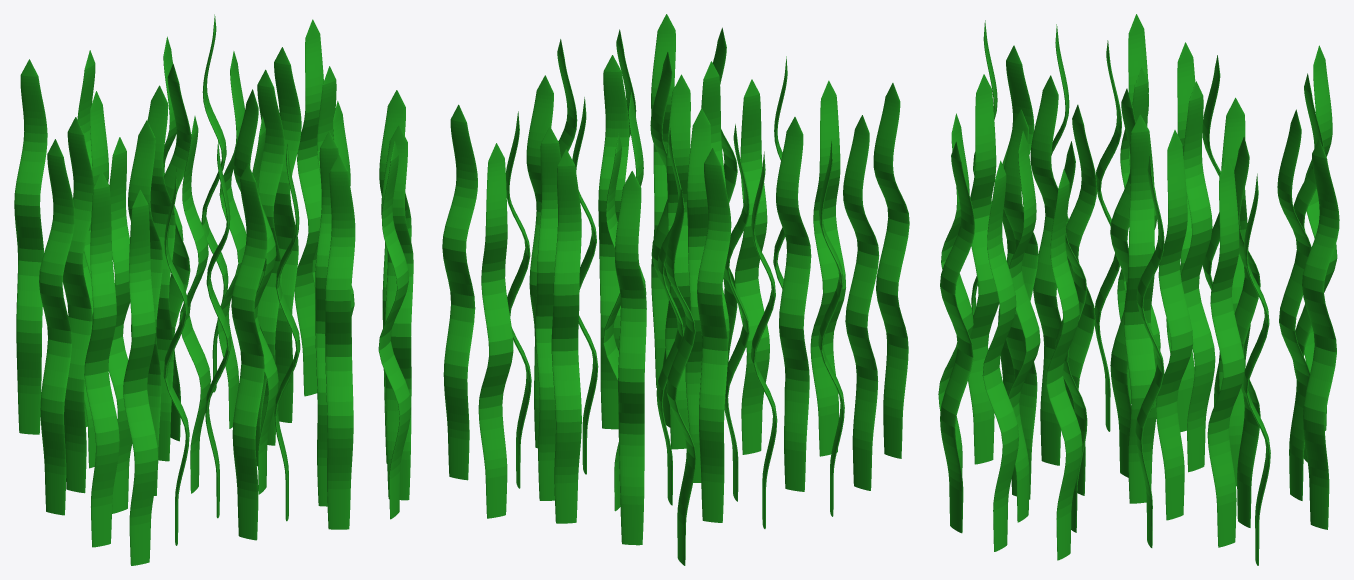
File: zeewier.fbx
The picture shows the model from 3 angles, left to right: view 1: azimuth 30°, elevation 25°; view 2: azimuth 150°, elevation 25°; view 3: azimuth 270°, elevation 25°; orthographic projection. The views are drawn at different scales.
Visible parts, largest first — view 1: Cylinder.001, Cylinder.023, Cylinder.019, Cylinder.016, Cylinder.020, Cylinder.003, Cylinder.017, Cylinder.030, Cylinder.026, Cylinder.008, Cylinder.015, Cylinder.010 (+19 smaller); view 2: Cylinder.028, Cylinder.022, Cylinder.009, Cylinder.015, Cylinder.021, Cylinder.030, Cylinder.019, Cylinder.020, Cylinder.004, Cylinder.018, Cylinder.029, Cylinder.006 (+19 smaller); view 3: Cylinder.012, Cylinder.021, Cylinder.026, Cylinder.025, Cylinder.010, Cylinder.003, Cylinder.007, Cylinder.008, Cylinder.004, Cylinder, Cylinder.028, Cylinder.005 (+19 smaller).
Boxes of the visible parts, bbox=[...] form: Cylinder.001: bbox=[325, 155, 355, 529]; Cylinder.023: bbox=[14, 59, 47, 434]; Cylinder.019: bbox=[123, 189, 158, 565]; Cylinder.016: bbox=[39, 139, 74, 515]; Cylinder.020: bbox=[84, 171, 119, 547]; Cylinder.003: bbox=[231, 164, 267, 540]; Cylinder.017: bbox=[63, 117, 94, 493]; Cylinder.030: bbox=[294, 19, 323, 396]; Cylinder.026: bbox=[273, 47, 301, 422]; Cylinder.008: bbox=[381, 125, 413, 500]; Cylinder.015: bbox=[108, 137, 132, 513]; Cylinder.010: bbox=[147, 85, 175, 461]; Cylinder.028: bbox=[551, 149, 581, 523]; Cylinder.022: bbox=[615, 171, 646, 545]; Cylinder.009: bbox=[697, 148, 731, 522]; Cylinder.015: bbox=[776, 117, 811, 491]; Cylinder.021: bbox=[478, 143, 513, 518]; Cylinder.030: bbox=[442, 104, 477, 480]; Cylinder.019: bbox=[873, 83, 909, 458]; Cylinder.020: bbox=[843, 115, 879, 490]; Cylinder.004: bbox=[734, 79, 769, 454]; Cylinder.018: bbox=[810, 80, 845, 456]; Cylinder.029: bbox=[535, 127, 560, 500]; Cylinder.006: bbox=[598, 55, 629, 429]; Cylinder.012: bbox=[1124, 114, 1156, 503]; Cylinder.021: bbox=[1302, 139, 1339, 529]; Cylinder.026: bbox=[1207, 157, 1244, 547]; Cylinder.025: bbox=[1155, 130, 1193, 520]; Cylinder.010: bbox=[1181, 81, 1215, 472]; Cylinder.003: bbox=[968, 74, 999, 464]; Cylinder.007: bbox=[1046, 169, 1082, 560]; Cylinder.008: bbox=[982, 160, 1018, 551]; Cylinder.004: bbox=[1030, 75, 1067, 465]; Cylinder: bbox=[940, 141, 974, 533]; Cylinder.028: bbox=[1277, 109, 1311, 500]; Cylinder.005: bbox=[1003, 109, 1038, 499].
Bounding box in the file's own units: 612 × 651 × 600.
